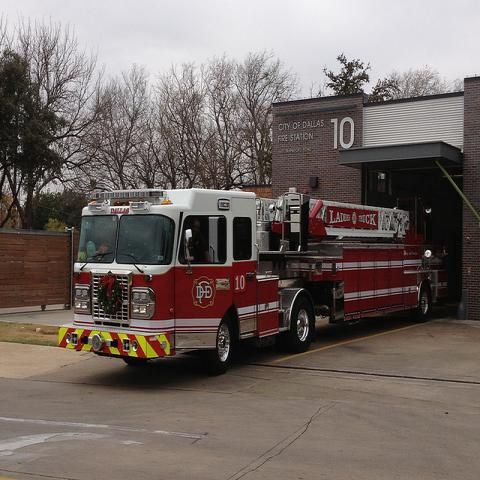truck: (56, 186, 442, 360)
